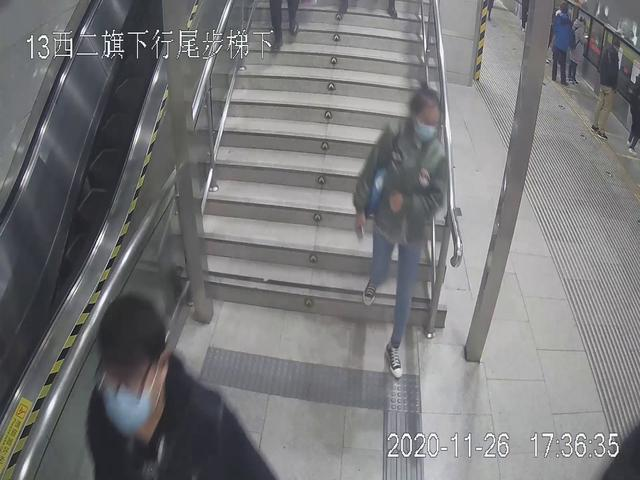person: (337, 89, 455, 376), (587, 26, 630, 148), (549, 1, 577, 82)
